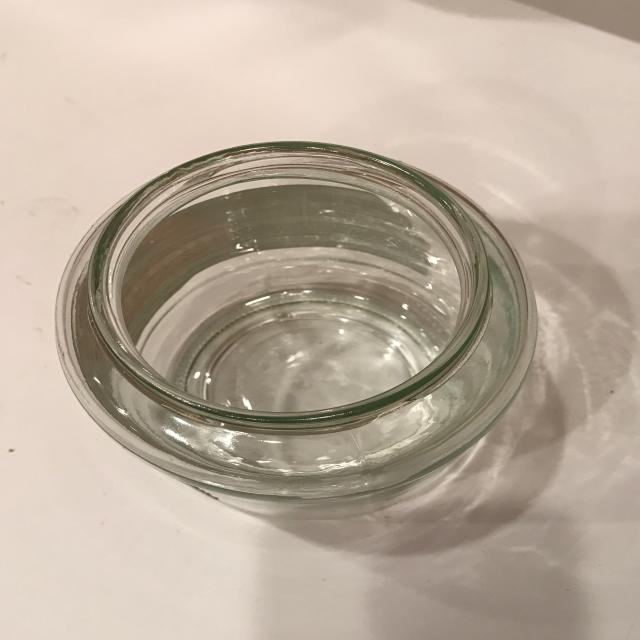glass: (54, 139, 539, 512)
